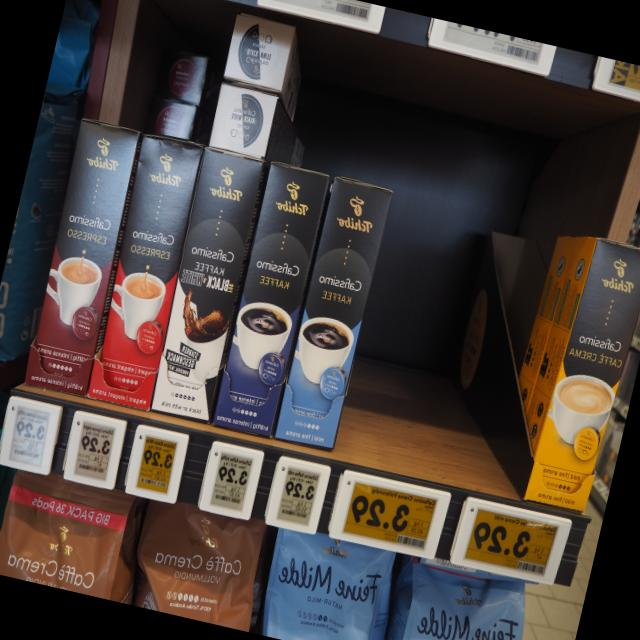Empty Shelf: (336, 189, 568, 497)
Simo CCMild bigpack: (520, 235, 640, 514)
Simo Es Elegant: (86, 130, 205, 413)
Simo Es Kraft: (23, 115, 143, 395)
Simo Kaffee BW: (149, 145, 268, 426)
Simo Kaffee Kraft: (210, 160, 332, 436)
Simo Kaffee Mild: (270, 174, 395, 452)
